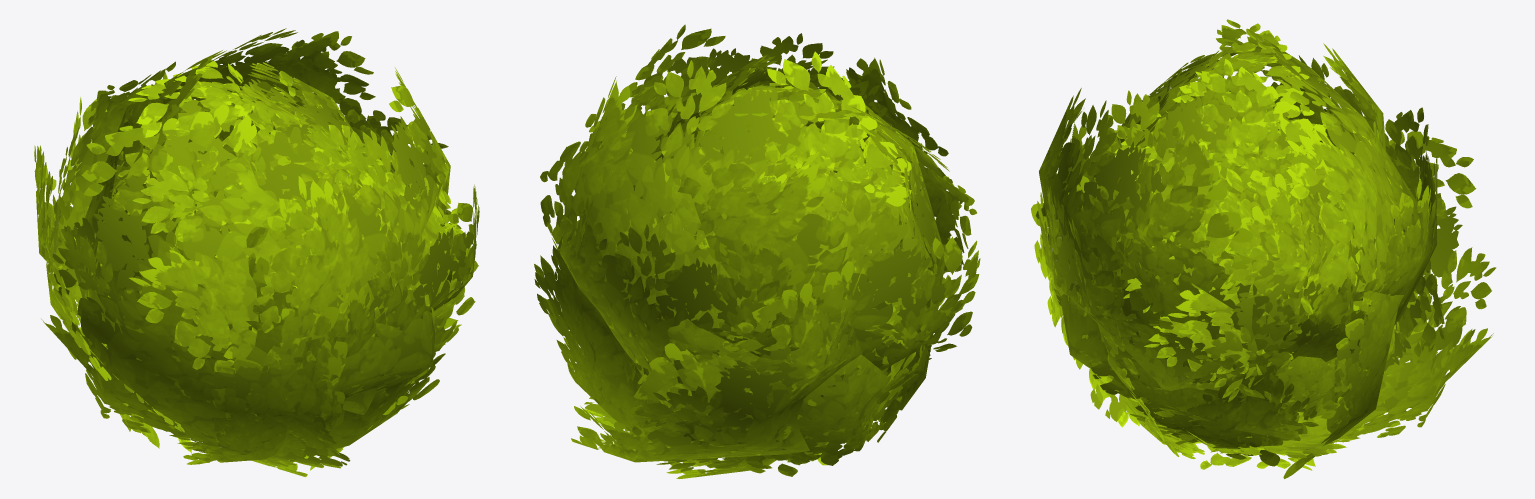
File: bush.glb
The picture shows the model from 3 angles, left to right: view 1: azimuth 30°, elevation 25°; view 2: azimuth 150°, elevation 25°; view 3: azimuth 270°, elevation 25°; orthographic projection. The views are drawn at different scales.
Parts seen in each view (by area): view 1: bush.042; view 2: bush.042; view 3: bush.042.
Part boxes in pixels (x1,y1,x2,y2): bush.042: (34, 28, 479, 477); bush.042: (534, 24, 980, 478); bush.042: (1031, 19, 1496, 478).
Bounding box in the file's own units: 2.34 × 2.42 × 2.55.
Materials: 1 (1 with a texture image).
